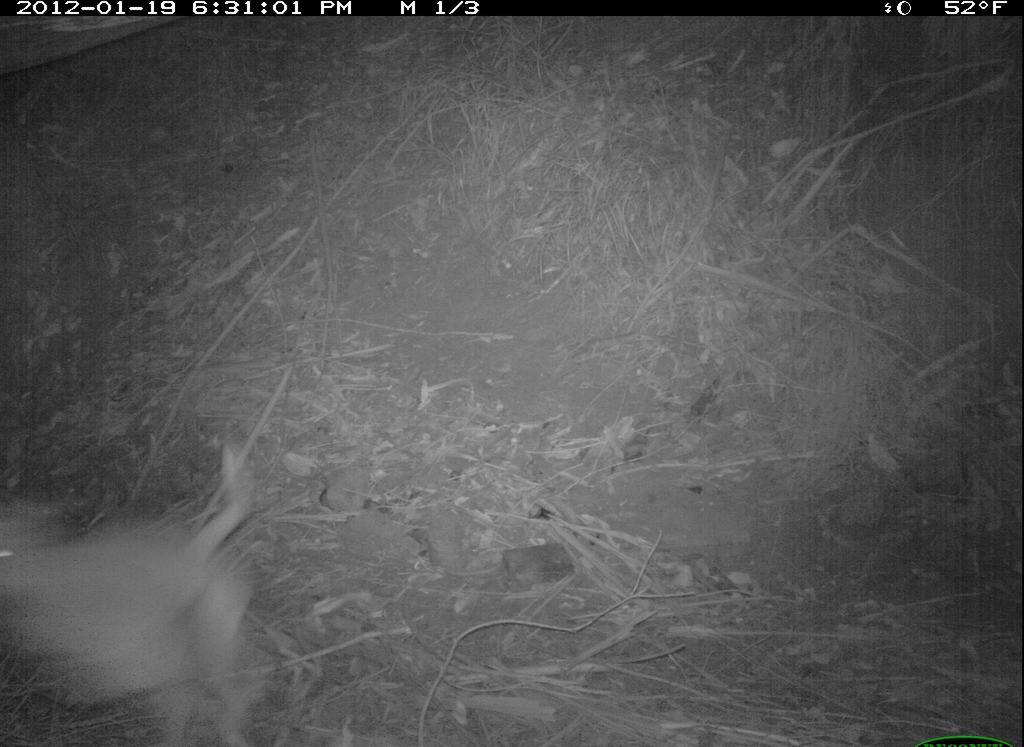dog: (1, 445, 274, 740)
